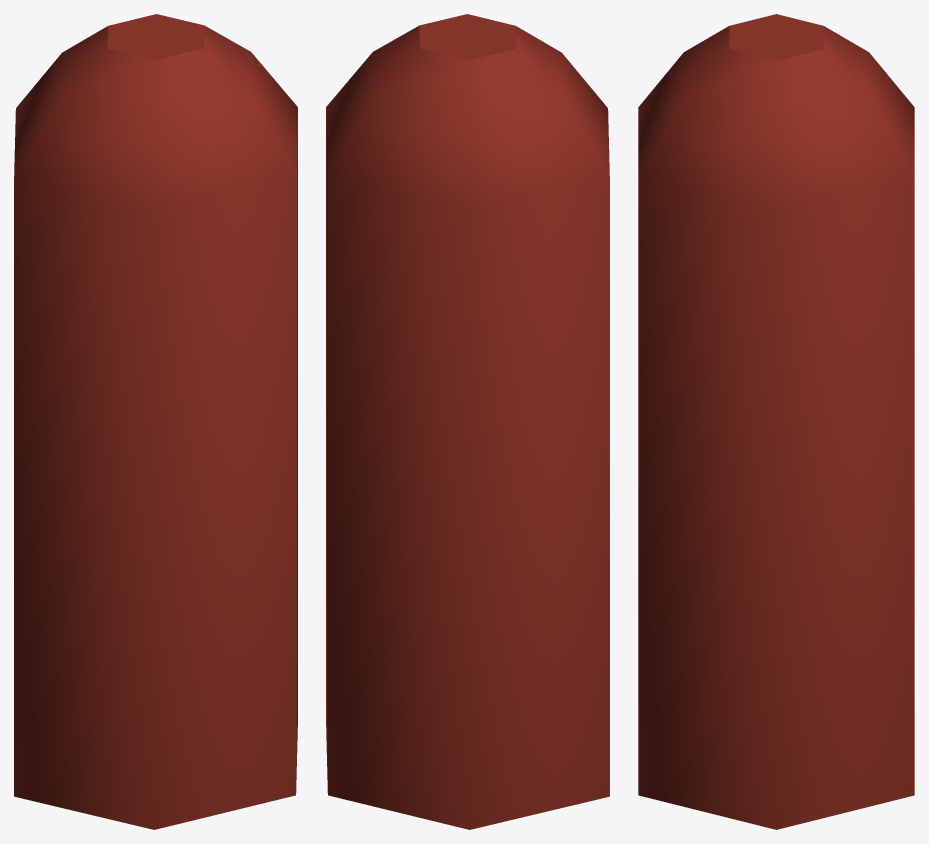
Rendered from Grenade01.FBX.
3 views of the same model, side by side, from view 1: azimuth 30°, elevation 25°; view 2: azimuth 150°, elevation 25°; view 3: azimuth 270°, elevation 25° (orthographic).
Visible parts, largest first — view 1: Cylinder114; view 2: Cylinder114; view 3: Cylinder114.
Part boxes in pixels (x1,y1,x2,y2): Cylinder114: (14, 14, 297, 829); Cylinder114: (326, 14, 609, 829); Cylinder114: (638, 14, 914, 829).
Size of the model in its own units: 36.78 by 31.07 by 89.8.
